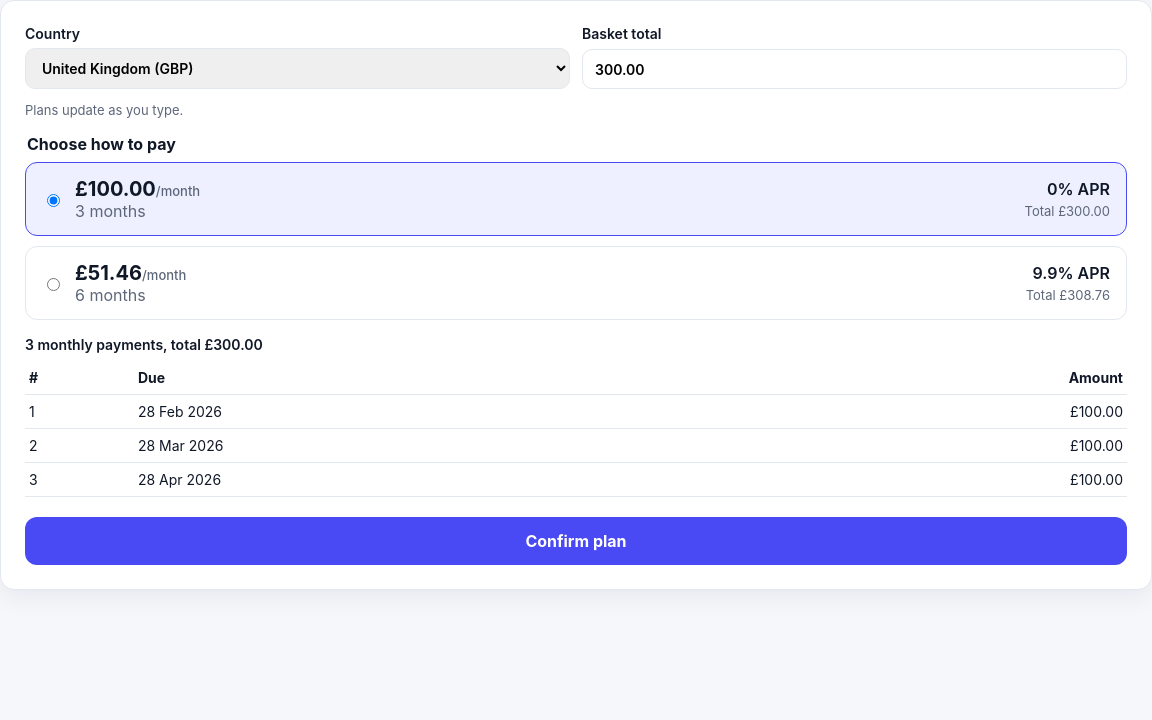
Test: Checkout › confirms the selected plan using the quoted amount
The image size is (1152, 720).
Click the radio button labelled "£51.46/month 6 months 9.9% APR Total £308.76" at [54, 284], box [47,278,60,291]
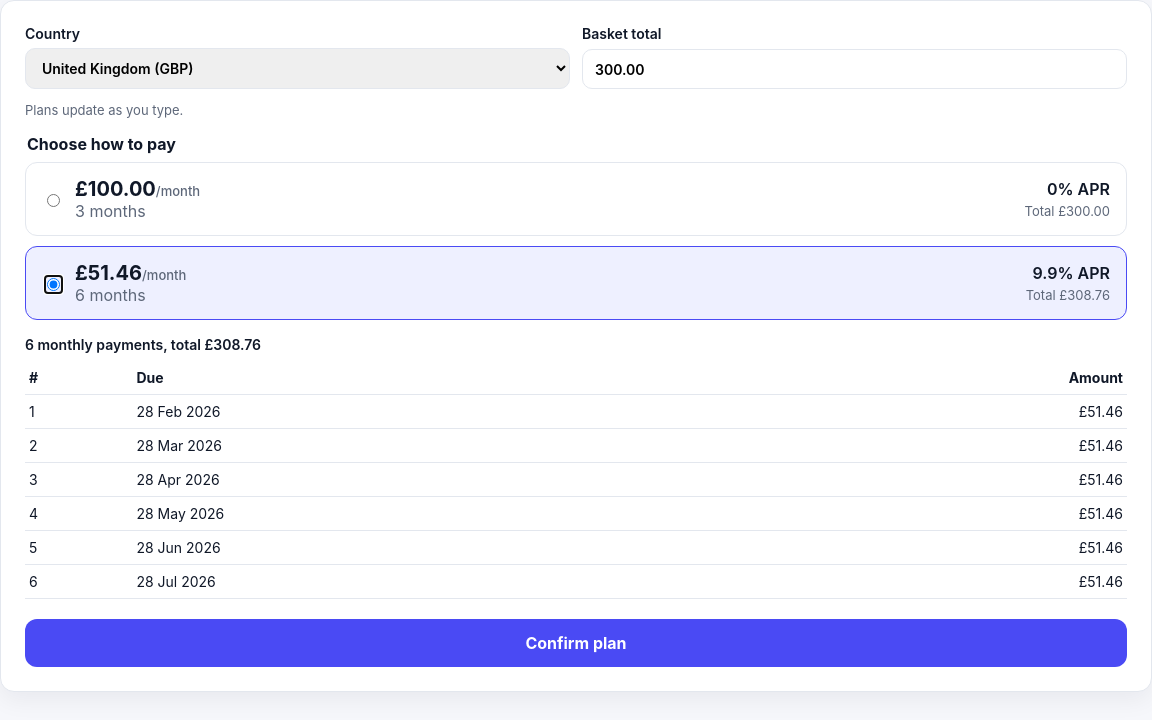
Click the button "Confirm plan" at [576, 643], box [25,619,1127,667]
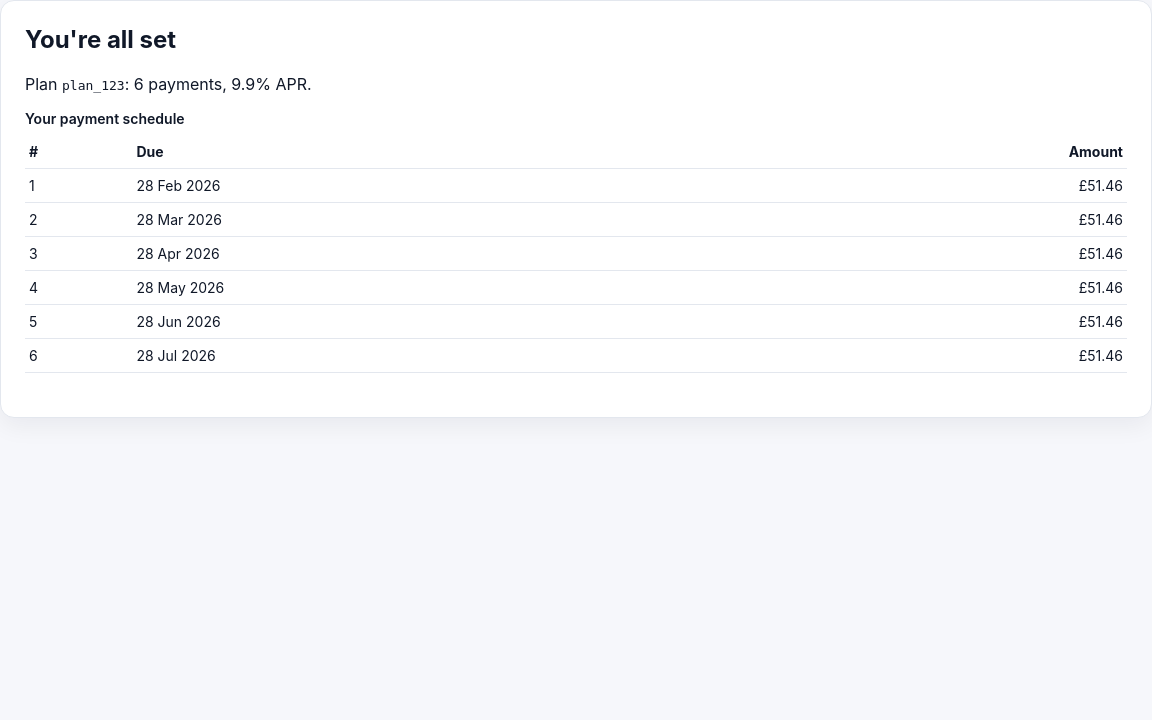
Now the heading "You're all set" is shown, box [25,25,176,54]
Now the text "plan_123" is shown, box [62,78,125,93]
